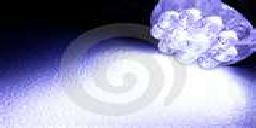LED: (150, 1, 255, 68)
